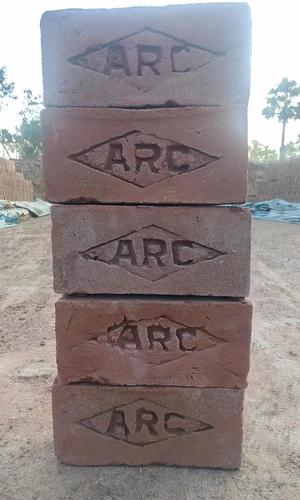brick: (39, 1, 250, 105), (45, 109, 249, 204), (51, 206, 250, 298), (56, 299, 251, 388), (53, 388, 247, 472)
